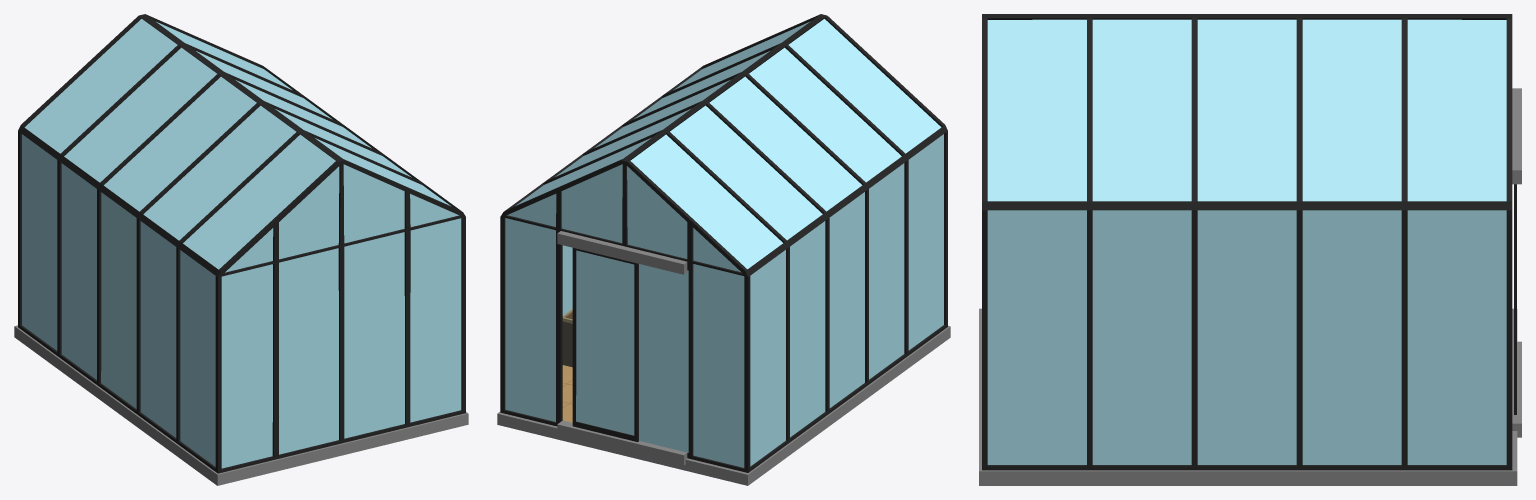
File: Greenhouse.fbx
3 views of the same model, side by side, from view 1: azimuth 30°, elevation 25°; view 2: azimuth 150°, elevation 25°; view 3: azimuth 270°, elevation 25° (orthographic). The views are drawn at different scales.
Visible parts, largest first — view 1: GreenhouseExterior.001; view 2: GreenhouseExterior.001; view 3: GreenhouseExterior.001.
Part boxes in pixels (x1,y1,x2,y2): GreenhouseExterior.001: (14, 14, 468, 485); GreenhouseExterior.001: (497, 14, 950, 485); GreenhouseExterior.001: (979, 14, 1521, 485).
Size of the model in its own units: 329 by 367 by 464.
